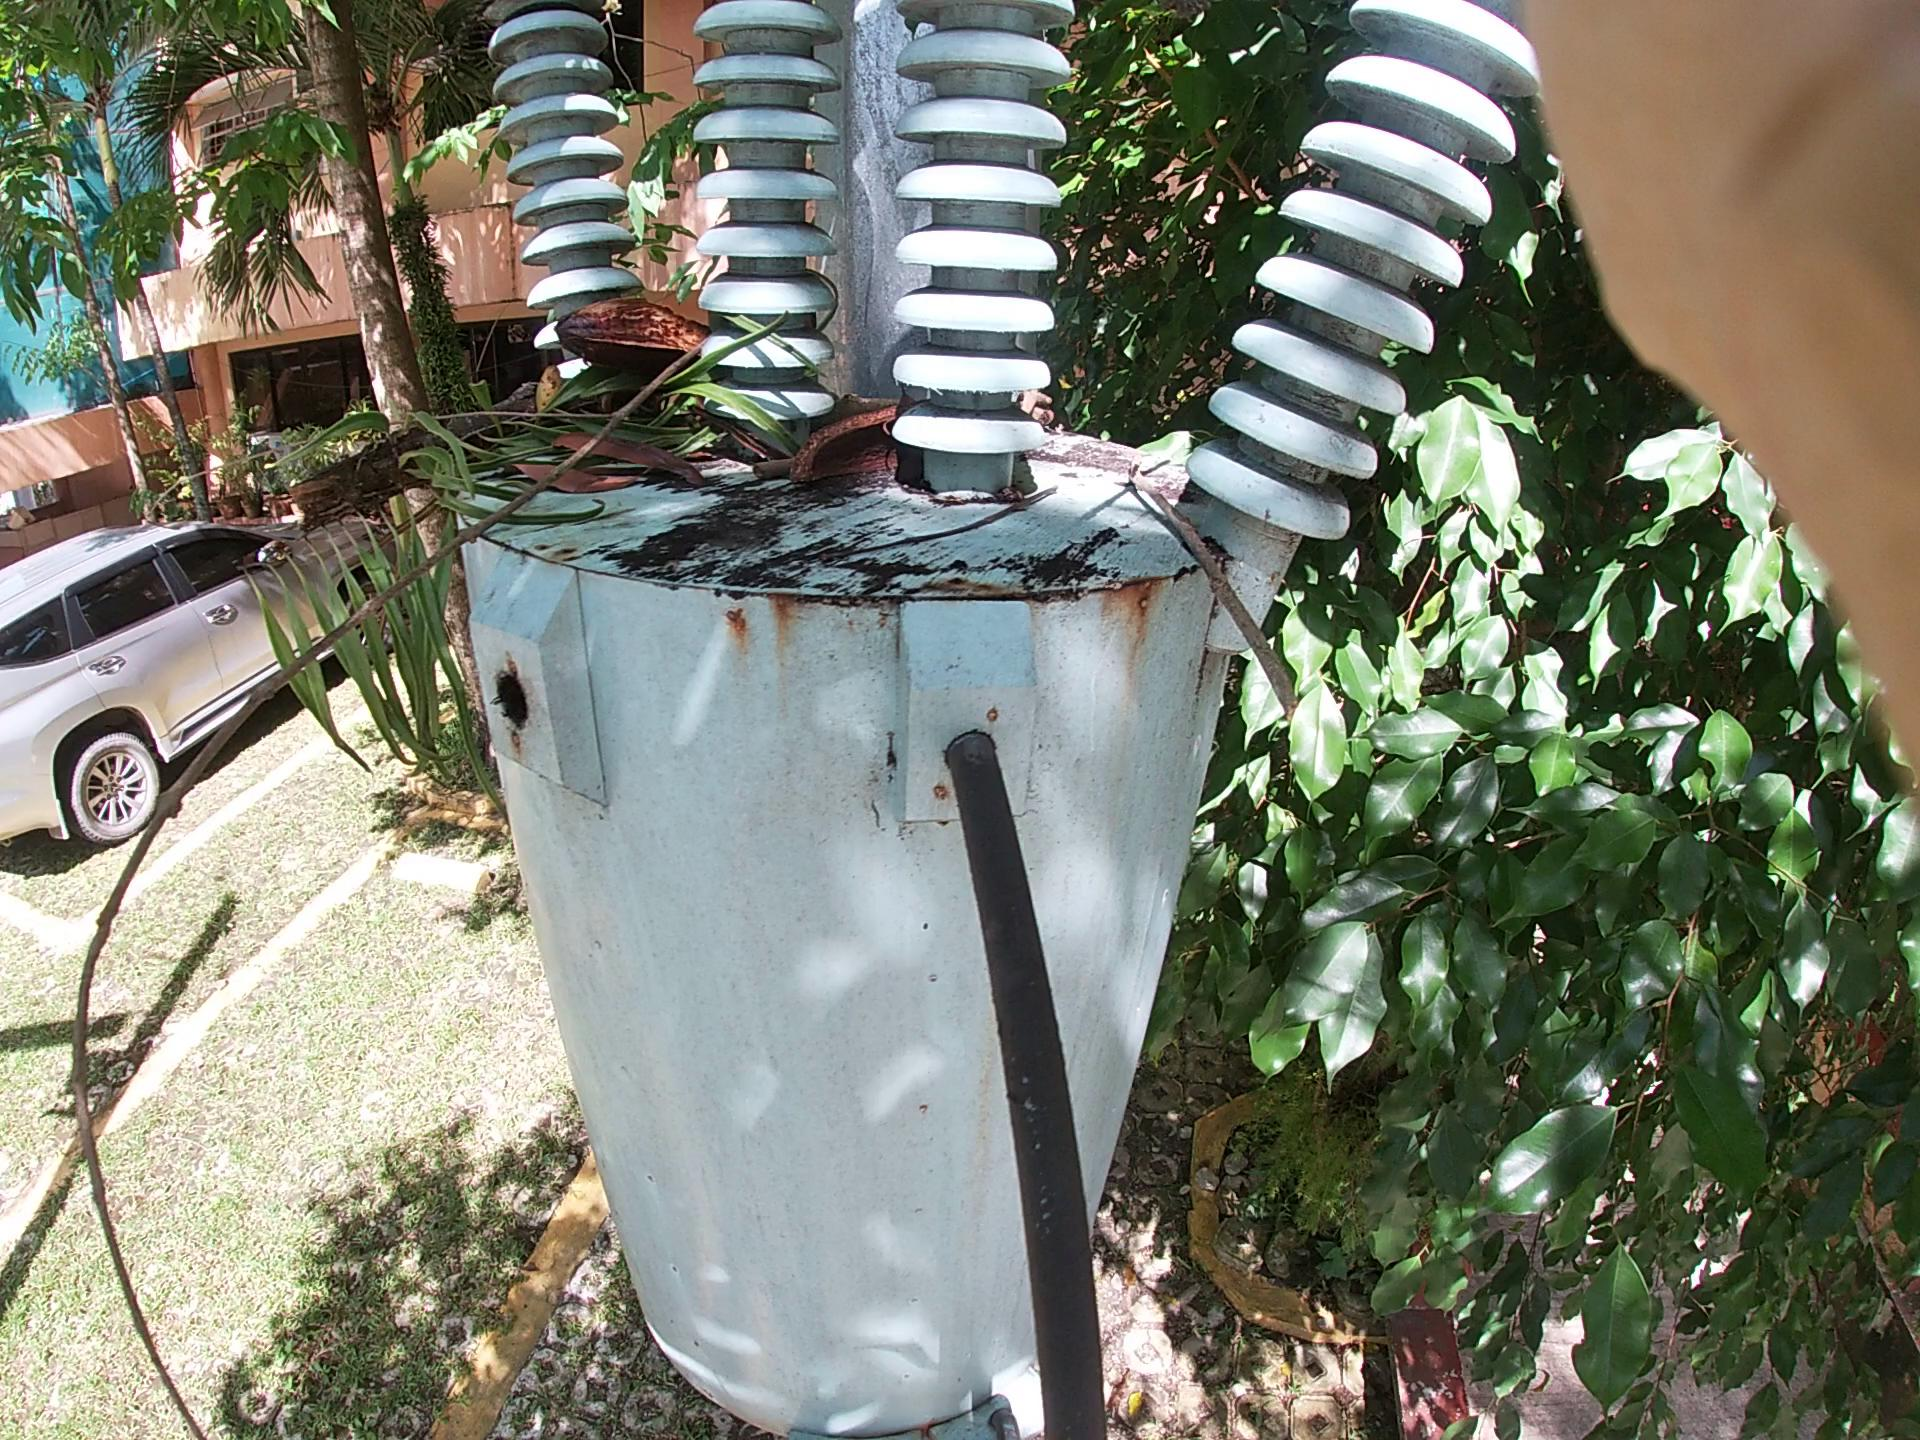branch with leaves: (172, 355, 893, 703)
leaf: (499, 383, 661, 535)
mahogany fruit: (519, 257, 729, 386), (754, 384, 903, 502)
tree branch: (2, 313, 777, 1032), (1144, 460, 1352, 781), (649, 402, 782, 535)
